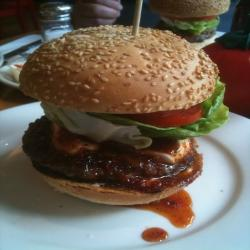burger: (25, 20, 227, 211), (149, 1, 230, 50)
